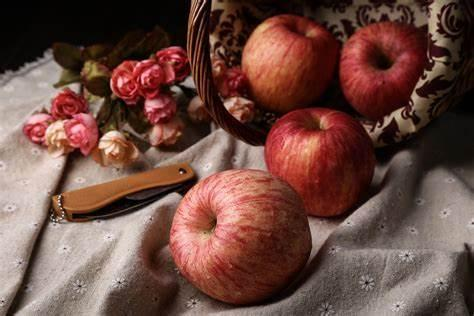apple: (167, 168, 309, 305), (267, 107, 373, 213), (242, 13, 335, 109), (341, 22, 425, 117)
